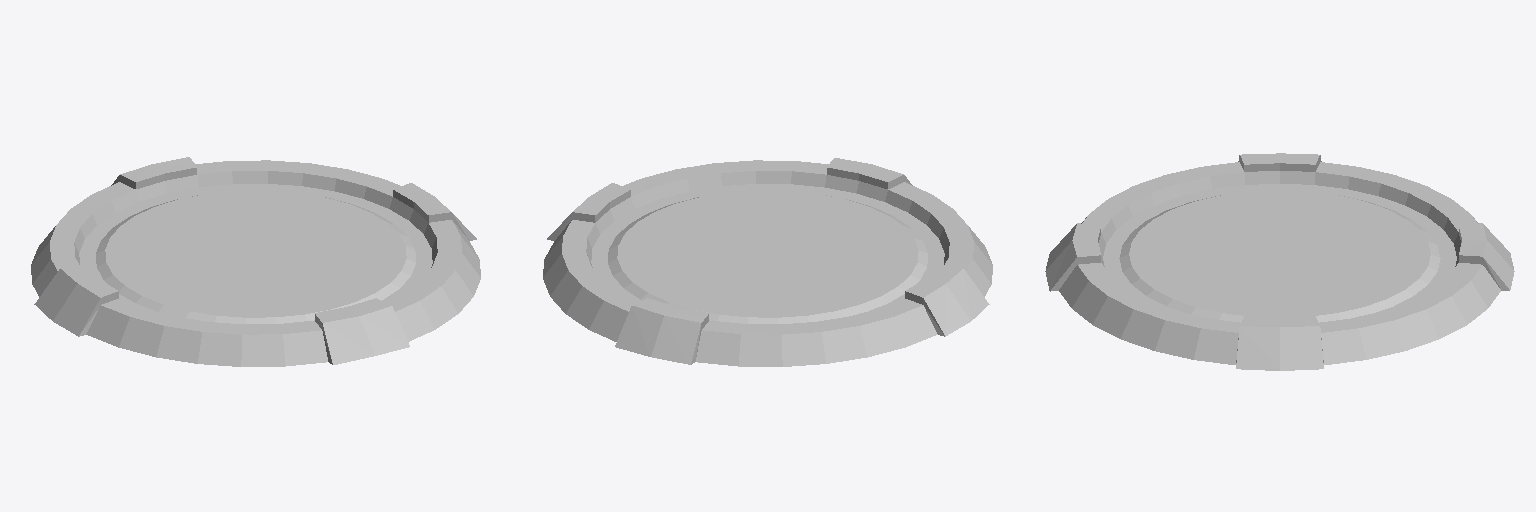
File: health_pack_base.obj
3 views of the same model, side by side, from view 1: azimuth 30°, elevation 25°; view 2: azimuth 150°, elevation 25°; view 3: azimuth 270°, elevation 25° (orthographic).
Visible parts, largest first — view 1: Cylinder; view 2: Cylinder; view 3: Cylinder.
Boxes of the visible parts, x1=… form: Cylinder: x1=31, y1=157, x2=480, y2=366; Cylinder: x1=543, y1=158, x2=992, y2=366; Cylinder: x1=1045, y1=153, x2=1514, y2=370.
Bounding box in the file's own units: 2.08 × 0.1603 × 2.08.